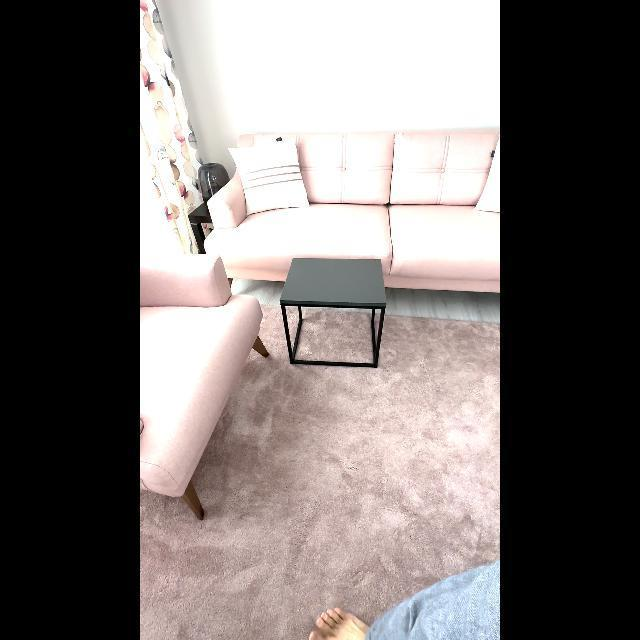coffee table: (276, 251, 396, 377)
